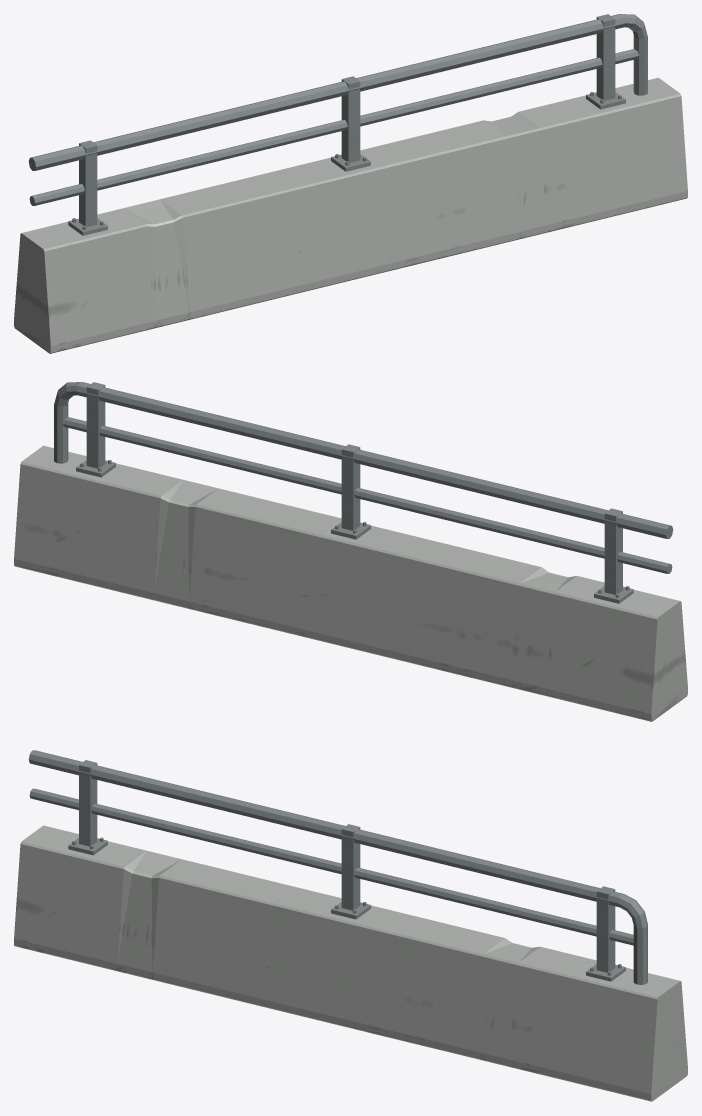
The model's file is river_bridge_parapet_end.glb.
3 views of the same model, one above another, from view 1: azimuth 30°, elevation 25°; view 2: azimuth 150°, elevation 25°; view 3: azimuth 330°, elevation 25° (orthographic).
Parts seen in each view (by area): view 1: BridgeParapetEnd; view 2: BridgeParapetEnd; view 3: BridgeParapetEnd.
Boxes of the visible parts, bbox=[...] form: BridgeParapetEnd: bbox=[14, 14, 687, 353]; BridgeParapetEnd: bbox=[14, 382, 687, 721]; BridgeParapetEnd: bbox=[14, 750, 687, 1101].
Size of what is drawn, in the model's own units: 4 by 1.1 by 0.4.
1 material, 1 textured.
